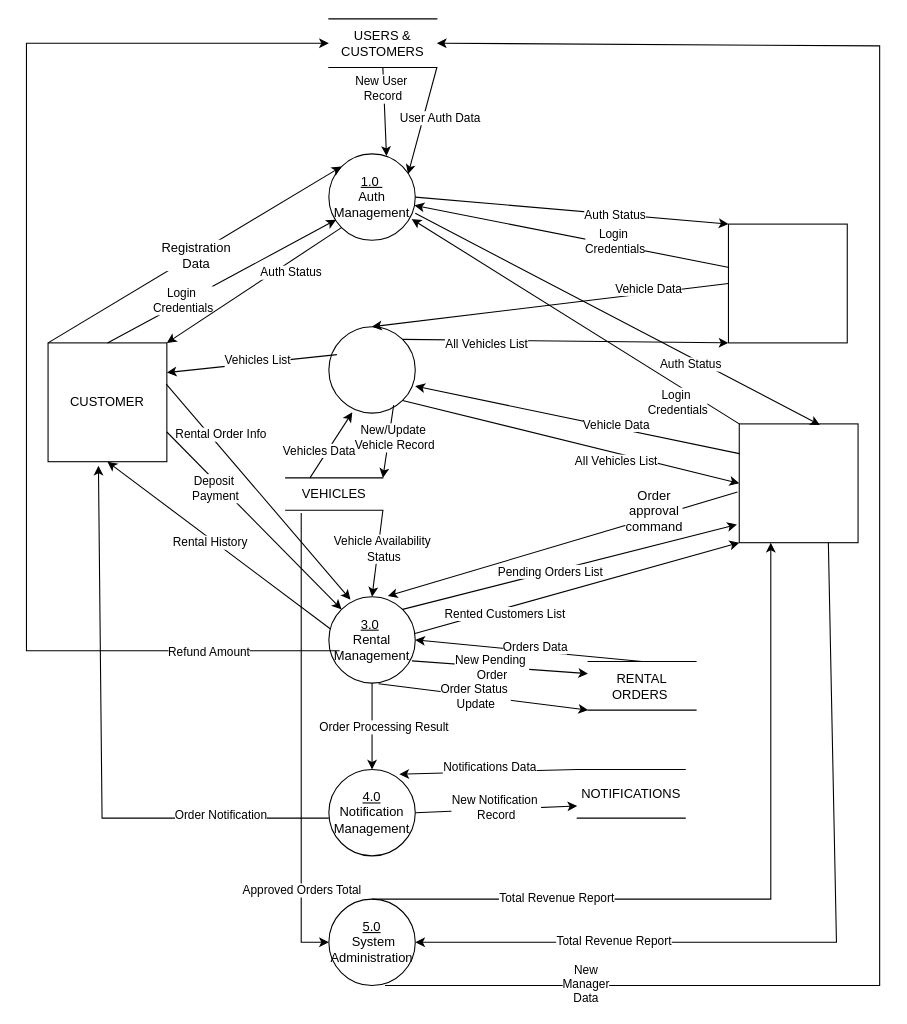
This 907x1024 diagram has some shape labels left out. The shapes that lost their labels are listed below. From the top down, each one's centre as x and y in pixels, then its label:
[787,283]: MANAGER
[371,369]: 2.0 Vehicle Management
[798,483]: ADMIN
